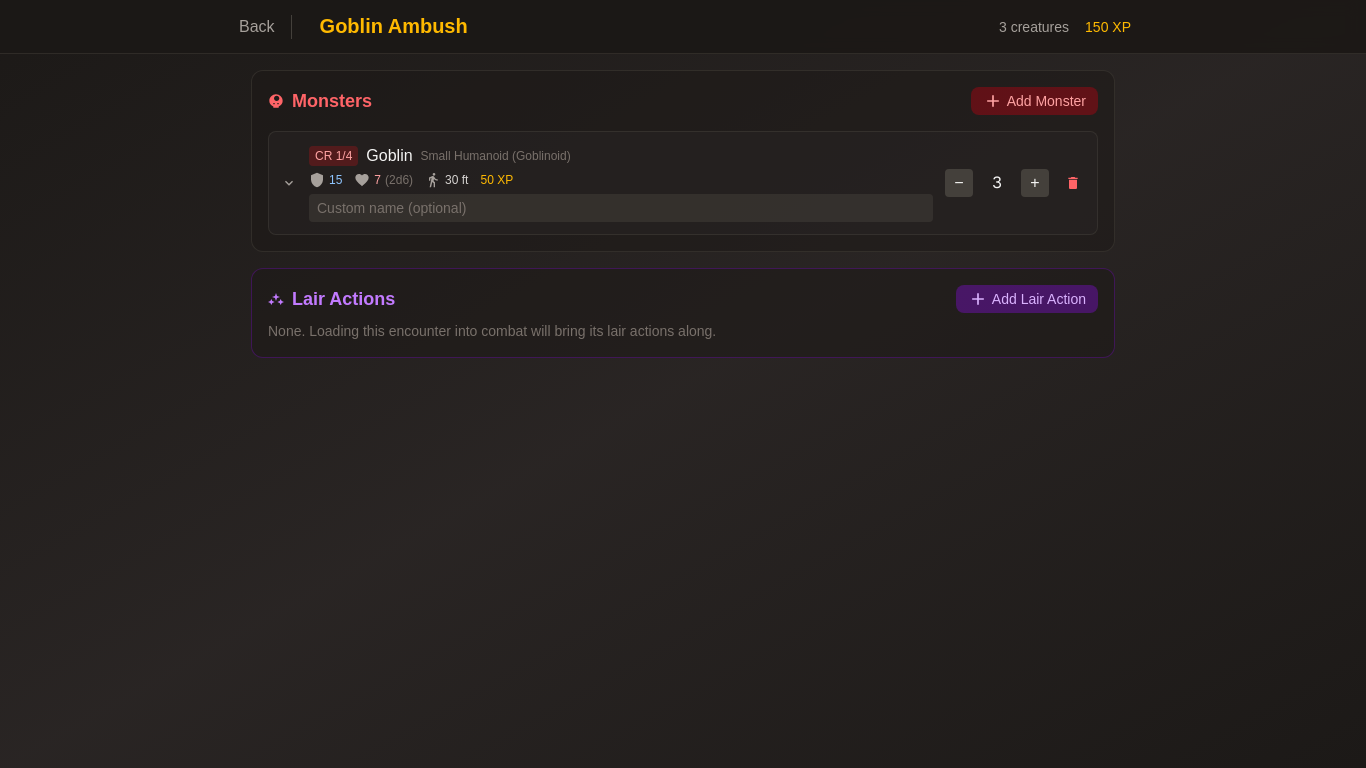
Test: EncounterEditor › monster rows › expanding a row reveals the stat block (abilities, traits, actions)
Expected: the text "Nimble Escape." is not shown
Click the 3rd button: (289, 183) [281,175,297,191]
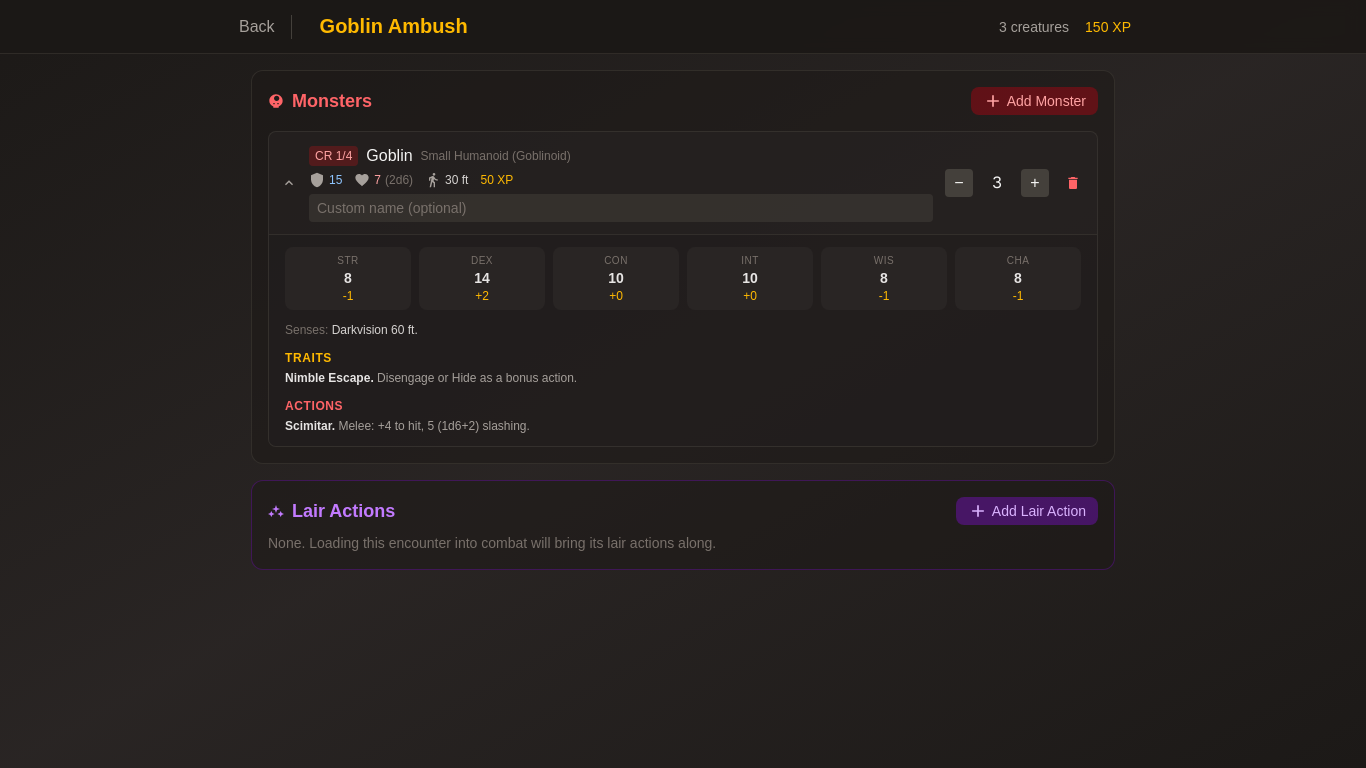
Expected: the text "str" is shown, [337,255,359,266]
Expected: the text "cha" is shown, [1007,255,1029,266]
Expected: the text "Nimble Escape." is shown, [285,371,374,385]
